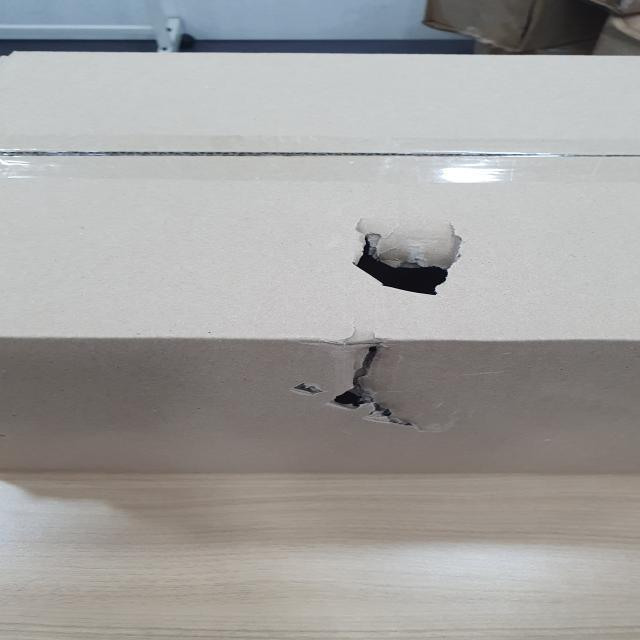hole: (295, 330, 416, 428), (336, 216, 472, 296)
